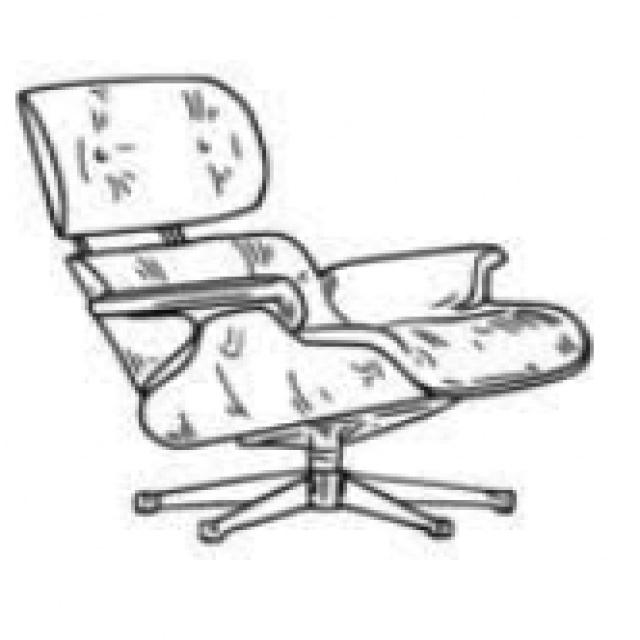Backrest: (59, 230, 359, 399)
Eames_base: (118, 459, 531, 549)
Eames_lounge: (321, 241, 511, 323), (86, 276, 307, 332)
Headrest: (13, 76, 271, 243)
Seat: (139, 305, 596, 450)
